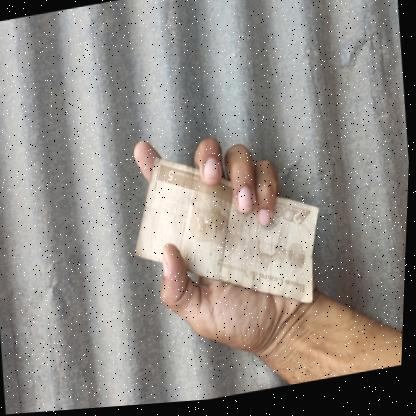five-back-vef: (125, 133, 332, 335)
